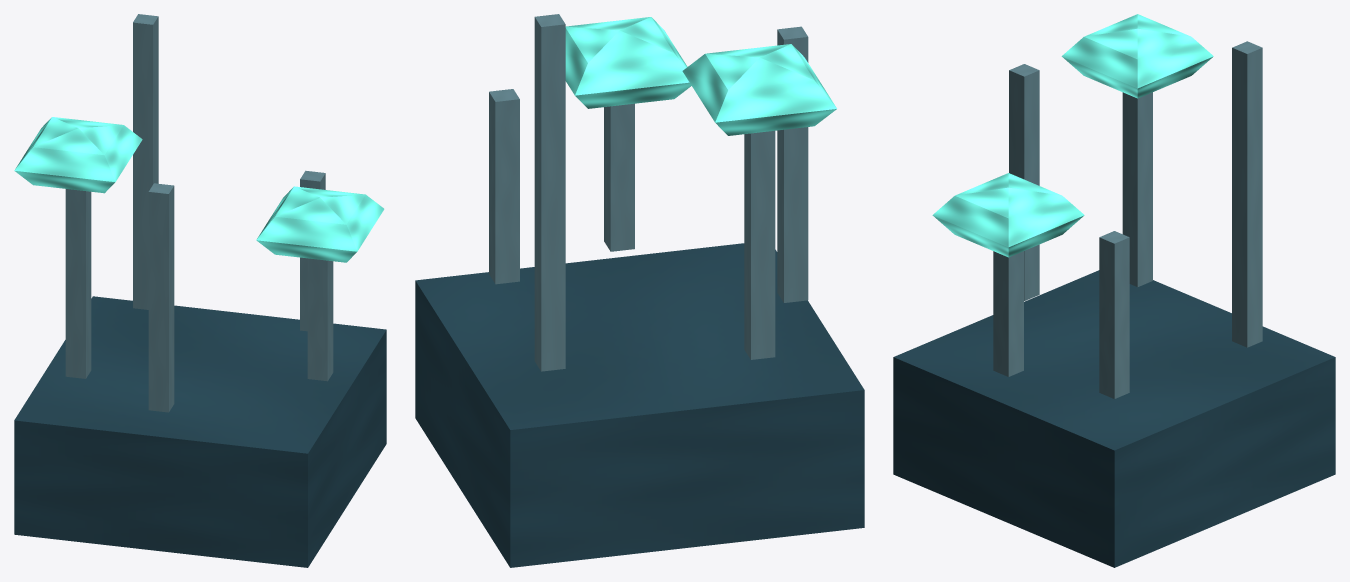
The model's file is atlas100-s061-a12.lod2.glb.
3 views of the same model, side by side, from view 1: azimuth 30°, elevation 25°; view 2: azimuth 150°, elevation 25°; view 3: azimuth 270°, elevation 25° (orthographic). The views are drawn at different scales.
Parts seen in each view (by area): view 1: atlas100-s061-a12:part-000, atlas100-s061-a12:part-010, atlas100-s061-a12:part-008, atlas100-s061-a12:part-005, atlas100-s061-a12:part-003, atlas100-s061-a12:part-009, atlas100-s061-a12:part-007, atlas100-s061-a12:part-001; view 2: atlas100-s061-a12:part-000, atlas100-s061-a12:part-005, atlas100-s061-a12:part-010, atlas100-s061-a12:part-008, atlas100-s061-a12:part-009, atlas100-s061-a12:part-003, atlas100-s061-a12:part-001, atlas100-s061-a12:part-007; view 3: atlas100-s061-a12:part-000, atlas100-s061-a12:part-005, atlas100-s061-a12:part-008, atlas100-s061-a12:part-010, atlas100-s061-a12:part-009, atlas100-s061-a12:part-001, atlas100-s061-a12:part-003, atlas100-s061-a12:part-007.
Part boxes in pixels (bbox=[...]): atlas100-s061-a12:part-000: bbox=[14, 296, 386, 567]; atlas100-s061-a12:part-010: bbox=[14, 117, 142, 193]; atlas100-s061-a12:part-008: bbox=[256, 186, 384, 262]; atlas100-s061-a12:part-005: bbox=[133, 14, 158, 309]; atlas100-s061-a12:part-003: bbox=[148, 183, 174, 412]; atlas100-s061-a12:part-009: bbox=[65, 189, 91, 378]; atlas100-s061-a12:part-007: bbox=[307, 258, 333, 381]; atlas100-s061-a12:part-001: bbox=[300, 170, 325, 331]; atlas100-s061-a12:part-000: bbox=[415, 243, 864, 567]; atlas100-s061-a12:part-005: bbox=[534, 14, 565, 371]; atlas100-s061-a12:part-010: bbox=[682, 44, 836, 135]; atlas100-s061-a12:part-008: bbox=[565, 17, 691, 108]; atlas100-s061-a12:part-009: bbox=[744, 131, 775, 359]; atlas100-s061-a12:part-003: bbox=[777, 26, 808, 302]; atlas100-s061-a12:part-001: bbox=[489, 89, 519, 284]; atlas100-s061-a12:part-007: bbox=[604, 103, 634, 251]; atlas100-s061-a12:part-000: bbox=[893, 270, 1335, 567]; atlas100-s061-a12:part-005: bbox=[1232, 41, 1262, 347]; atlas100-s061-a12:part-008: bbox=[932, 173, 1084, 257]; atlas100-s061-a12:part-010: bbox=[1061, 14, 1213, 98]; atlas100-s061-a12:part-009: bbox=[1122, 92, 1152, 287]; atlas100-s061-a12:part-001: bbox=[1099, 231, 1129, 398]; atlas100-s061-a12:part-003: bbox=[1009, 64, 1039, 300]; atlas100-s061-a12:part-007: bbox=[993, 251, 1023, 376].
Bounding box in the file's own units: 1.16 × 1.25 × 1.16.
Materials: 3 (3 with a texture image).
